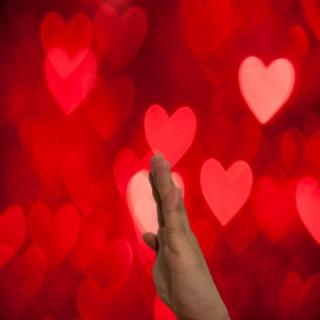RIGHT: (133, 149, 232, 320)
